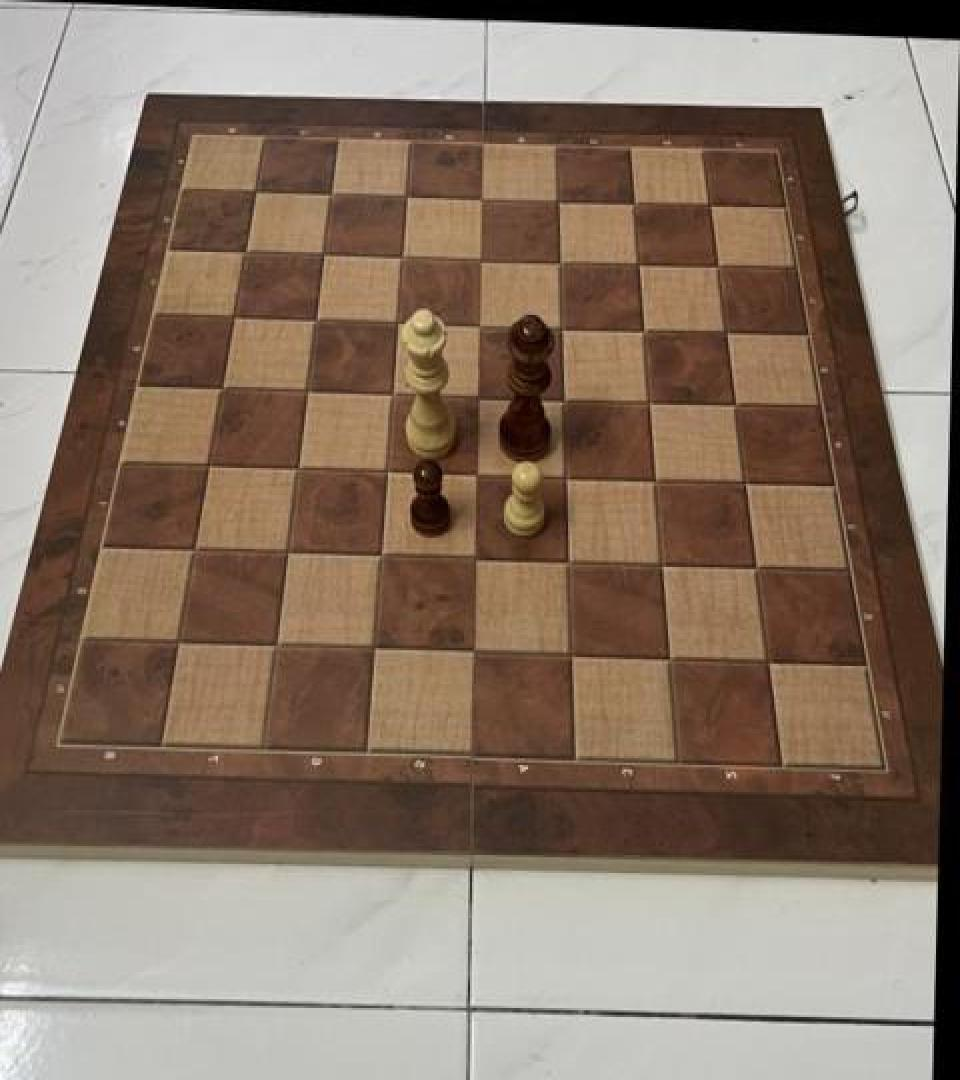xcorner: (238, 173, 272, 212), (545, 309, 579, 348), (291, 371, 325, 410), (460, 454, 494, 493), (314, 177, 348, 215), (390, 179, 424, 217), (466, 181, 500, 219), (542, 184, 576, 222), (618, 186, 652, 224), (694, 189, 728, 227), (228, 234, 262, 272), (307, 236, 341, 274), (386, 238, 420, 276), (465, 242, 499, 280), (544, 244, 578, 282), (623, 246, 657, 284), (702, 249, 736, 287), (217, 298, 251, 336), (299, 302, 333, 340), (381, 304, 415, 342), (463, 306, 497, 344), (628, 312, 662, 350), (710, 315, 744, 353), (205, 369, 239, 407), (376, 375, 410, 413), (462, 377, 496, 415), (547, 380, 581, 418), (633, 382, 667, 420), (719, 386, 753, 424), (192, 446, 226, 484), (281, 448, 315, 486), (371, 451, 405, 489), (549, 457, 583, 495), (639, 460, 673, 498), (729, 464, 763, 502), (178, 529, 212, 567), (271, 532, 305, 570), (365, 536, 399, 574), (458, 539, 492, 577), (552, 541, 586, 579), (645, 544, 679, 582), (739, 548, 773, 586), (162, 621, 196, 659), (260, 624, 294, 662), (358, 628, 392, 666), (456, 631, 490, 669), (554, 634, 588, 672), (652, 638, 686, 676), (751, 642, 785, 680)
